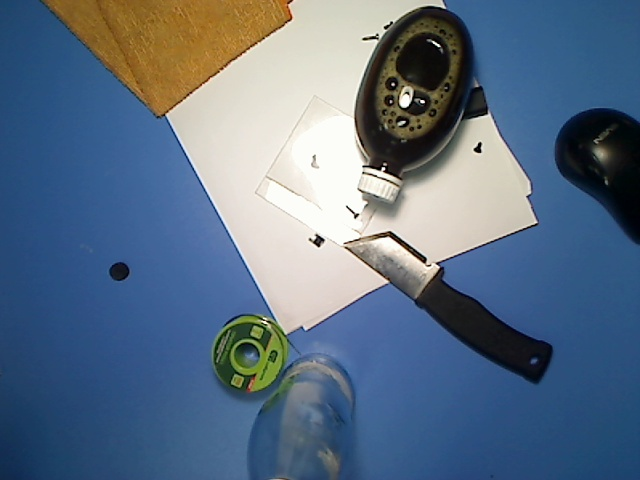plast_bottle: (348, 3, 489, 208)
